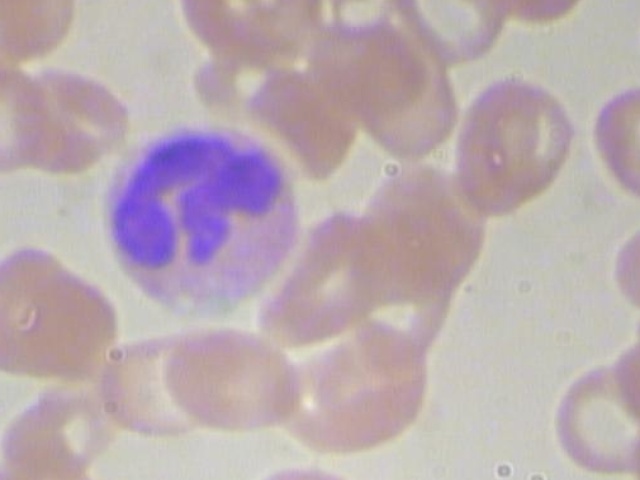RBC: (450, 74, 575, 218), (161, 322, 305, 434), (12, 61, 142, 175), (543, 356, 640, 480), (0, 236, 82, 380), (0, 63, 55, 178)
WBC: (100, 119, 302, 324)
